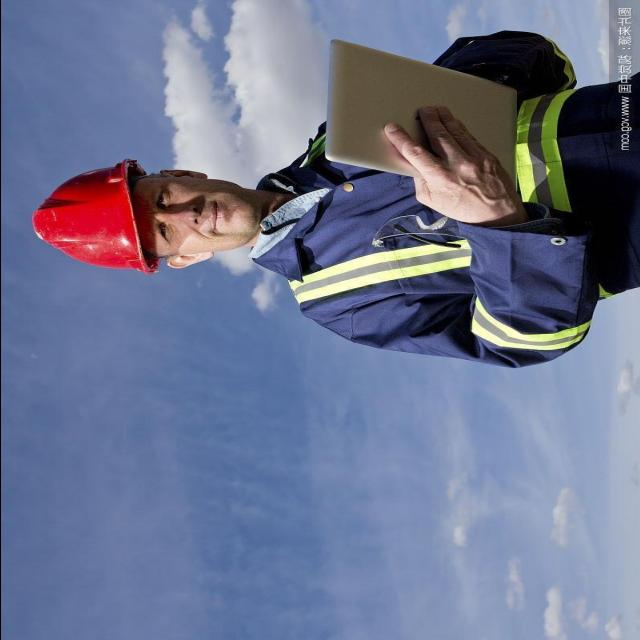helmet: (22, 158, 154, 282)
